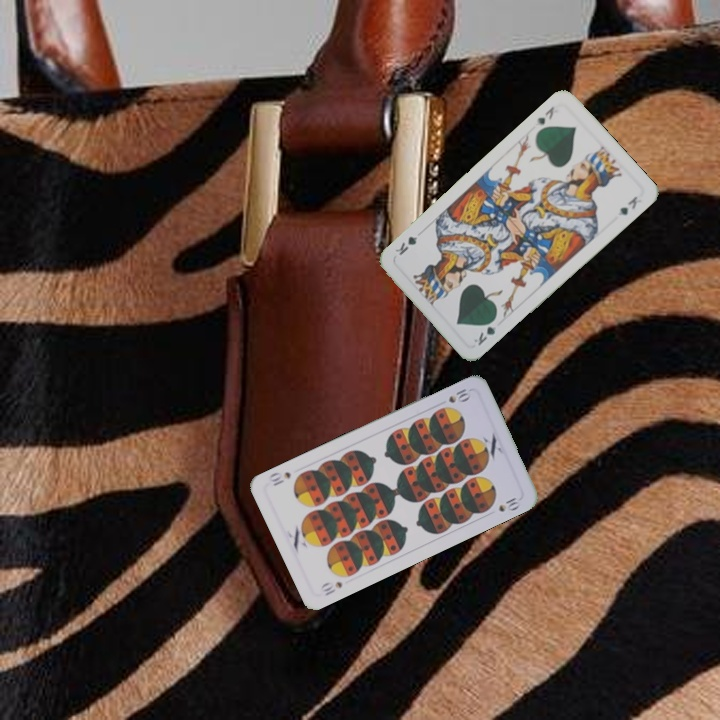GK: (470, 313, 499, 348), (532, 102, 557, 128)
S10: (444, 384, 473, 406), (317, 577, 345, 598)
